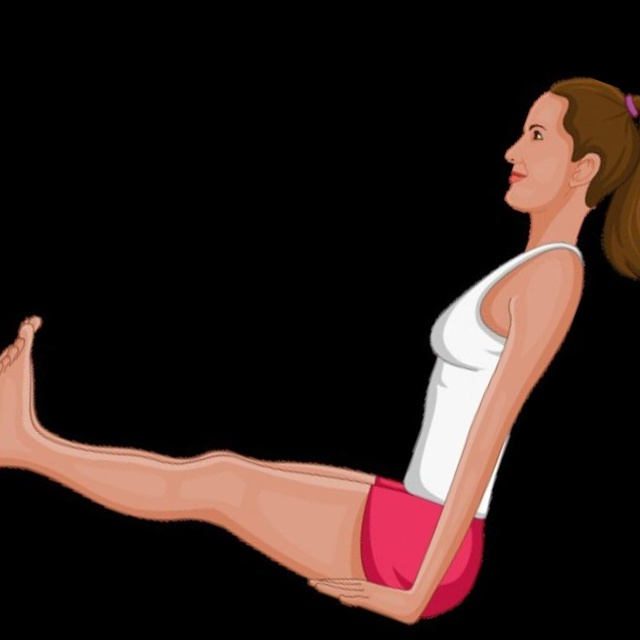Staff_Pose: (3, 75, 626, 622)
